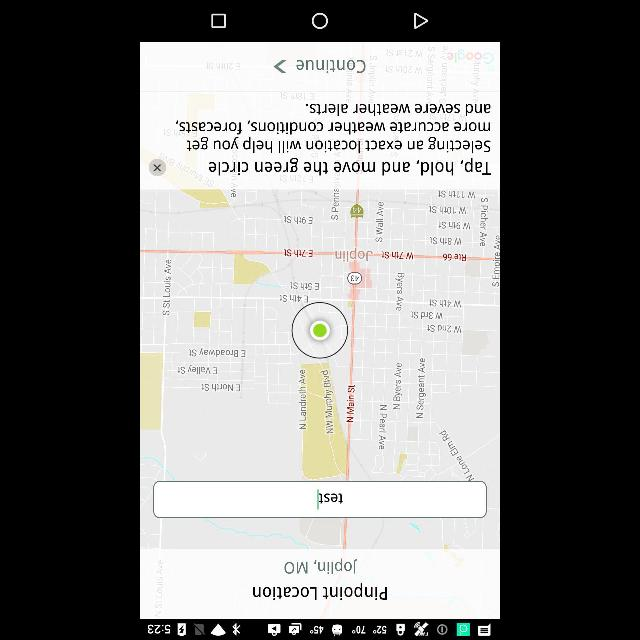icon: (411, 11, 429, 29), (210, 11, 228, 29), (312, 12, 328, 28)
input: (154, 479, 486, 518)
map: (140, 188, 500, 548)
panel: (140, 0, 500, 40)
text: (175, 100, 490, 176), (254, 586, 386, 600), (283, 561, 357, 573), (319, 491, 343, 505)
textbutton: (142, 41, 500, 90)
uppertaskbar: (140, 618, 500, 640)
